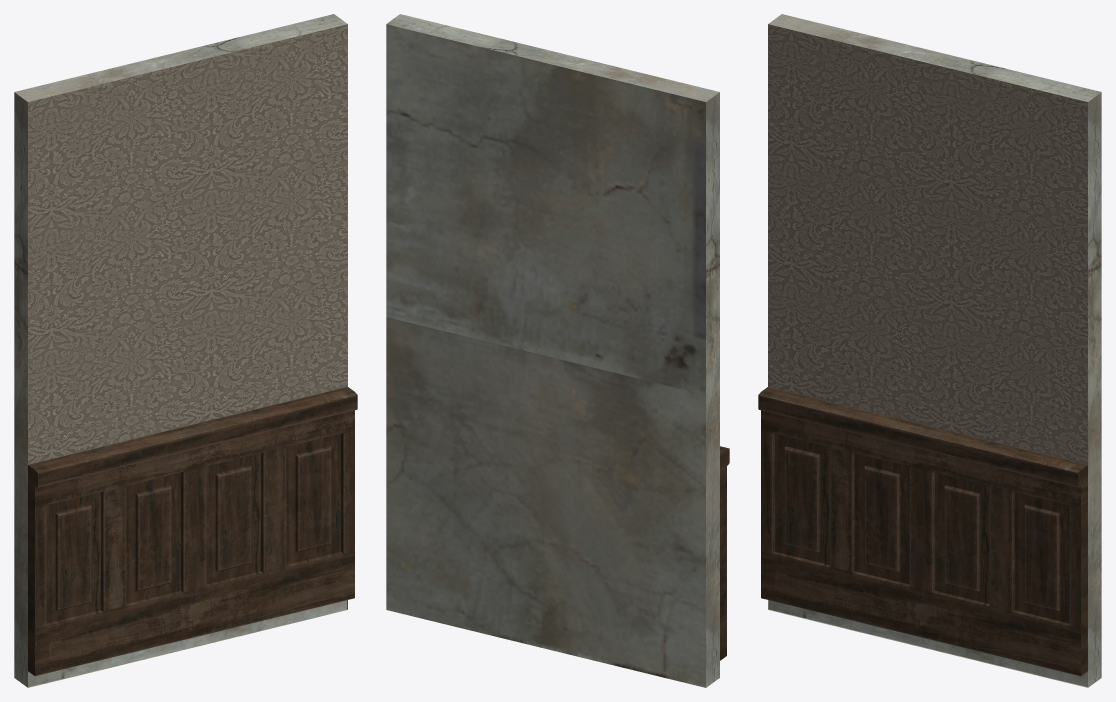
The model's file is R3_Wall.fbx.
3 views of the same model, side by side, from view 1: azimuth 30°, elevation 25°; view 2: azimuth 150°, elevation 25°; view 3: azimuth 330°, elevation 25° (orthographic).
Parts seen in each view (by area): view 1: SM_Wall200A_LOD0; view 2: SM_Wall200A_LOD0; view 3: SM_Wall200A_LOD0.
Part boxes in pixels (x1=…): SM_Wall200A_LOD0: x1=14, y1=14, x2=357, y2=687; SM_Wall200A_LOD0: x1=386, y1=14, x2=729, y2=687; SM_Wall200A_LOD0: x1=758, y1=14, x2=1101, y2=687.
Size of the model in its own units: 200 by 350 by 25.65.
